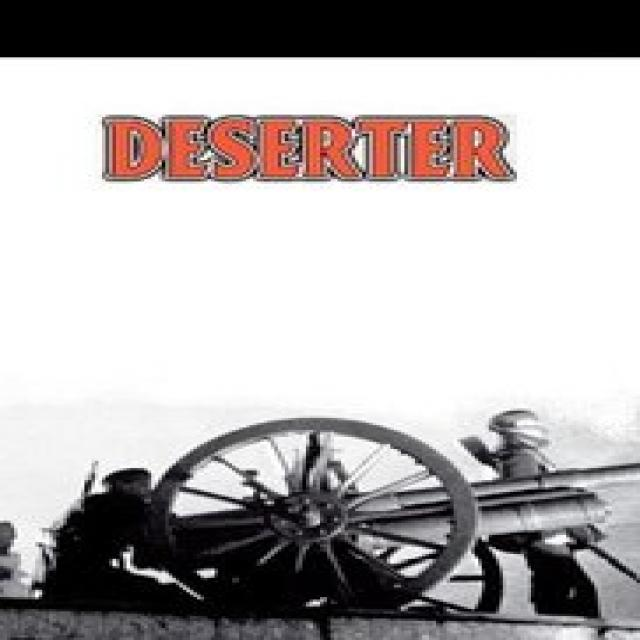movie-judul: (81, 95, 540, 206)
picture: (3, 305, 640, 640)
